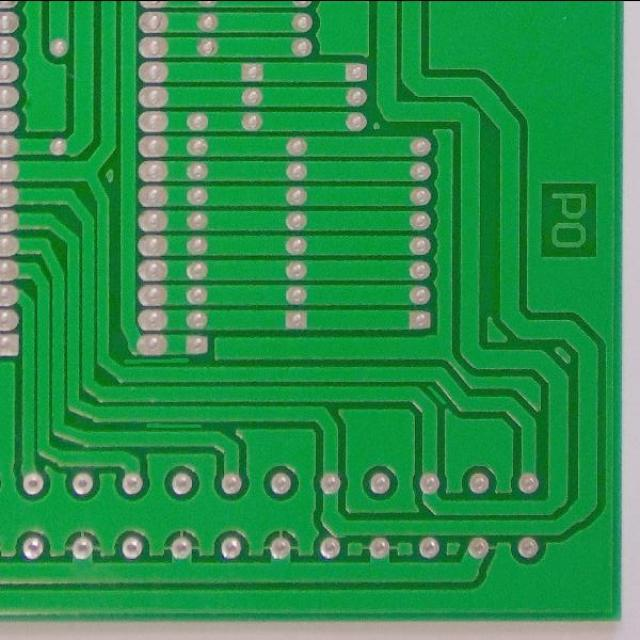Spurious_Cooper: (122, 355, 193, 367), (424, 382, 451, 408), (143, 420, 205, 431)
